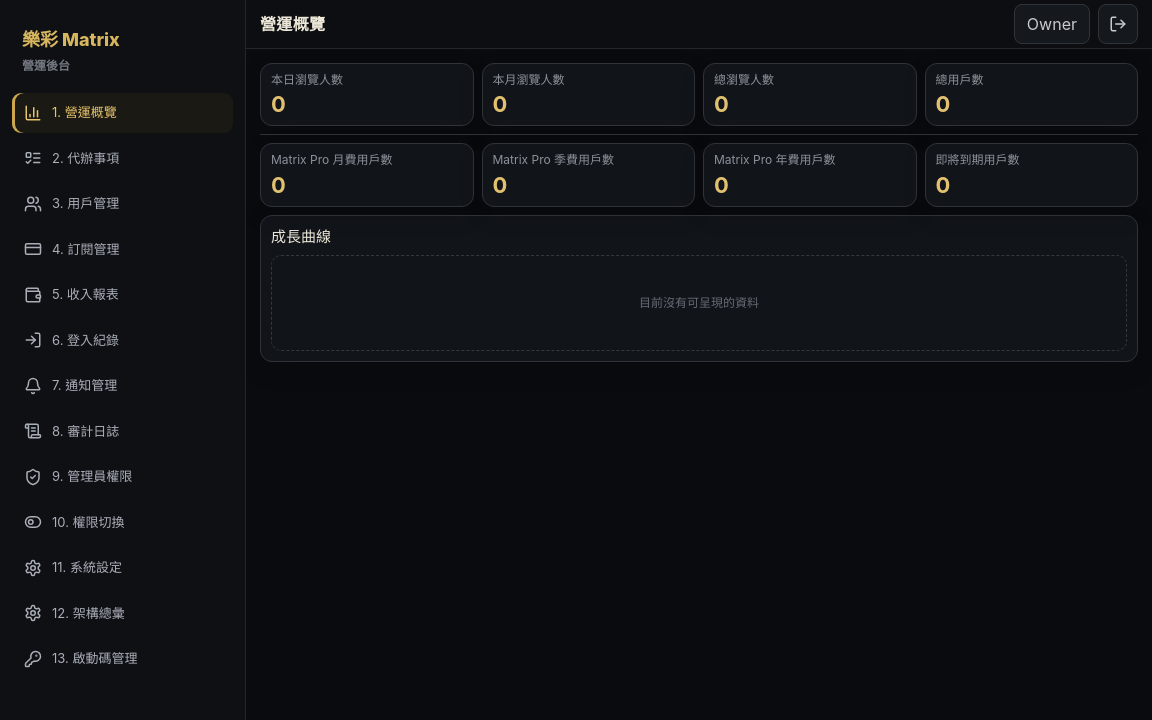
Test case: AdminApp weak-network bootstrap › labels a transfer payment by report time while retaining provider payment time
Click the button "4. 訂閱管理" at point(122, 249), box 12,230 -> 233,269
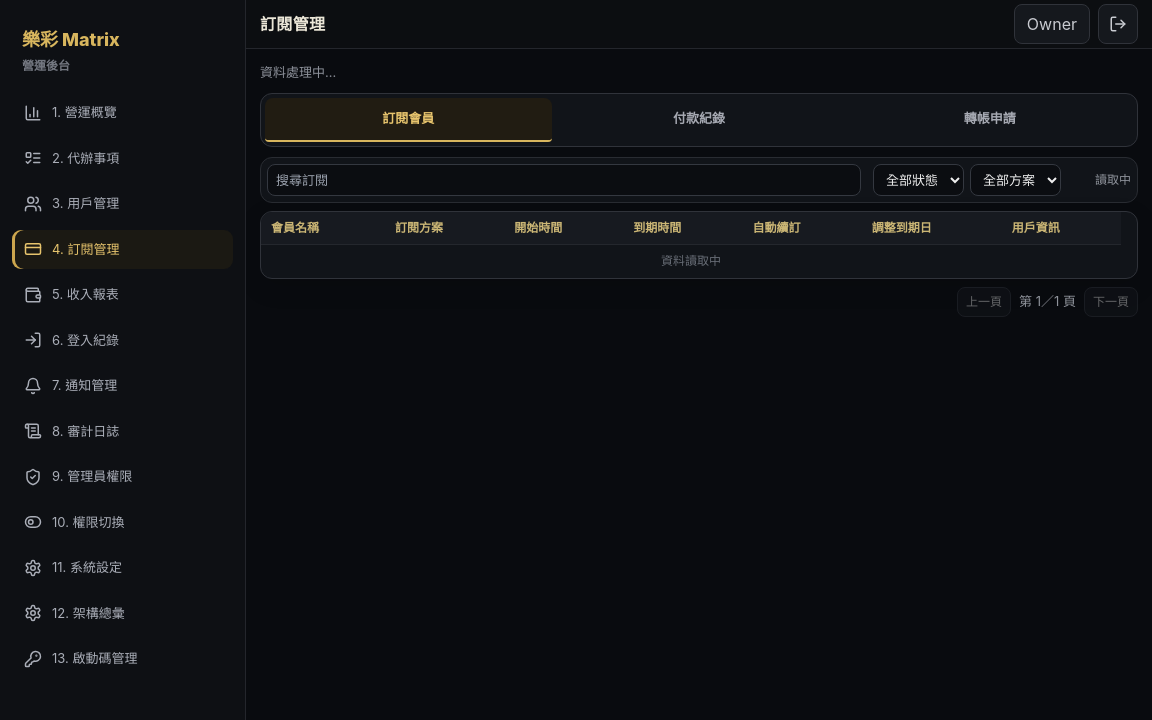
Click the tab "付款紀錄" at point(699, 120), box 556,98 -> 842,142
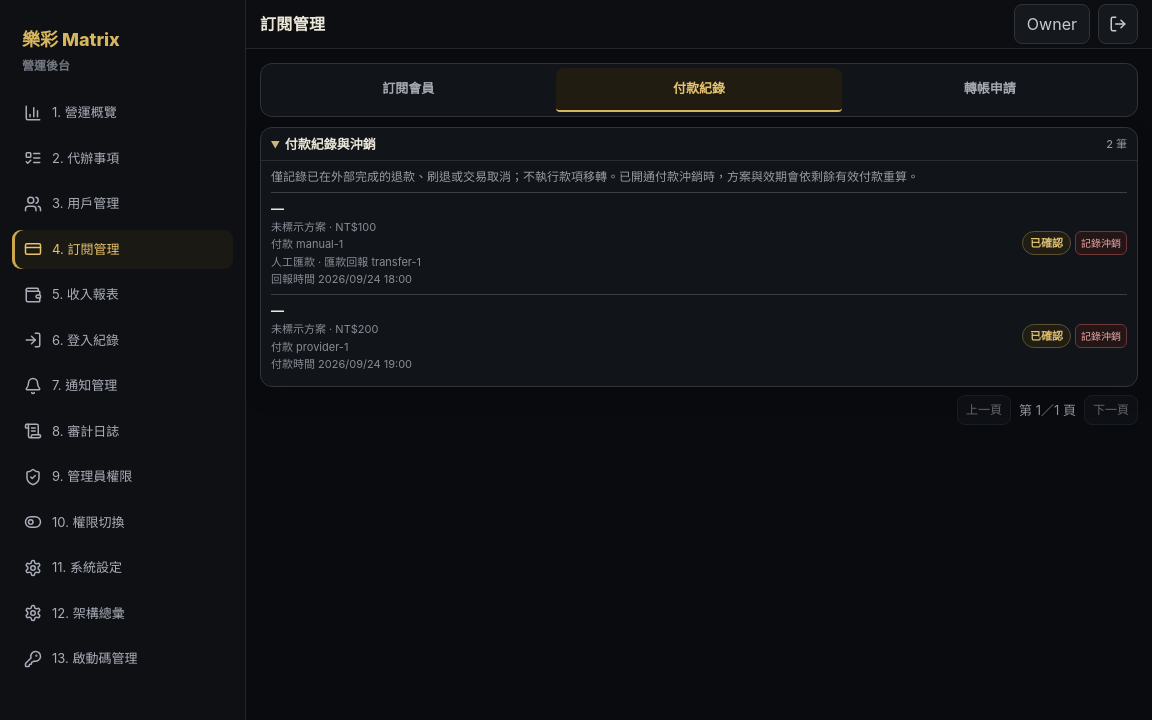
Expected: the text "回報時間" is shown, 271,272 -> 315,286
Expected: the text "付款時間" is shown, 271,357 -> 315,371
